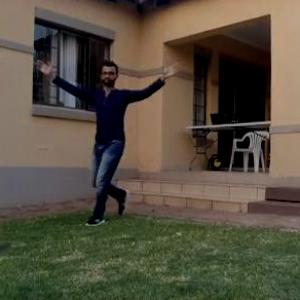takeoff: (41, 63, 187, 227)
